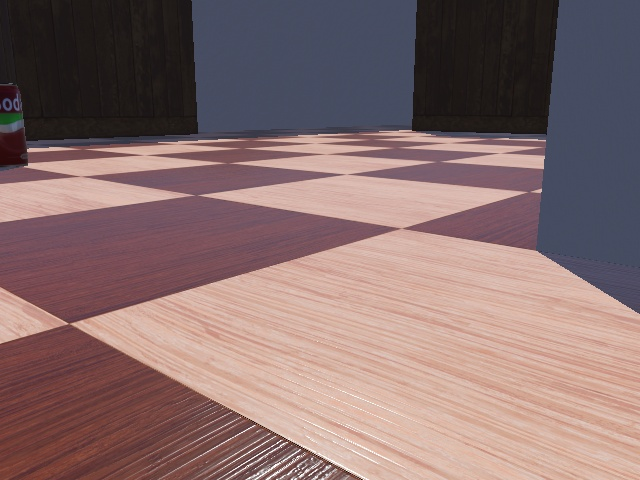lon_nuoc: (0, 85, 30, 166)
